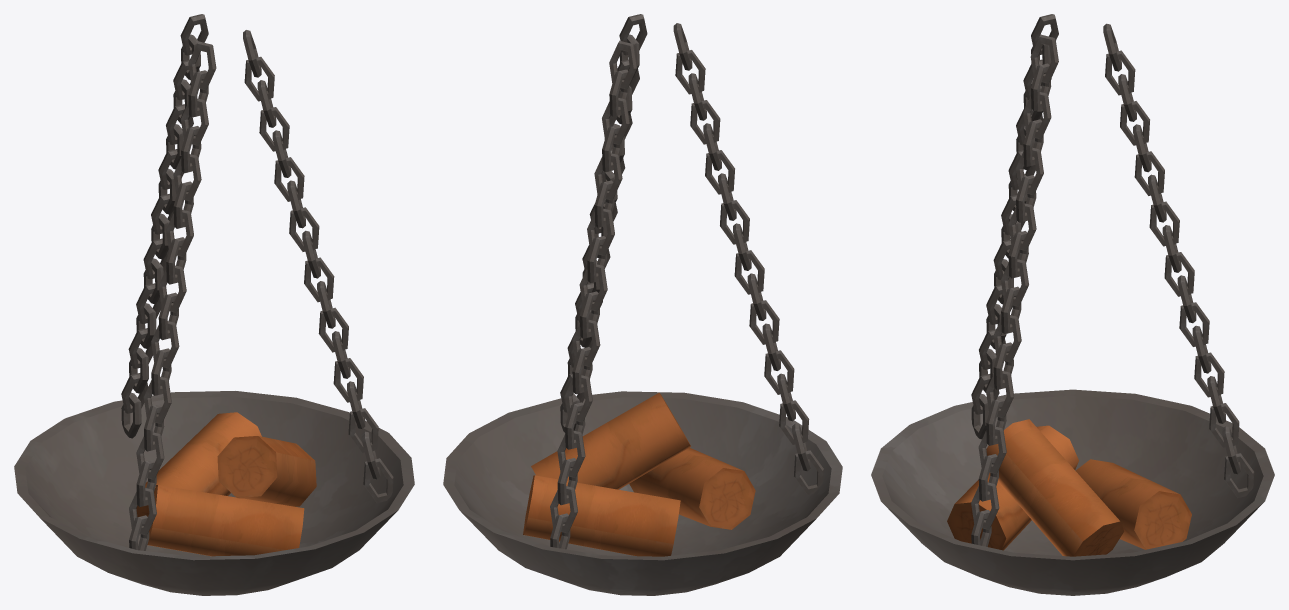
3 views of the same model, side by side, from view 1: azimuth 30°, elevation 25°; view 2: azimuth 150°, elevation 25°; view 3: azimuth 270°, elevation 25° (orthographic).
Parts seen in each view (by area): view 1: pCylinder57, pTorus44, pTorus45, polySurface552, pTorus42, polySurface553, polySurface554; view 2: pCylinder57, pTorus42, pTorus44, polySurface554, polySurface553, polySurface552, pTorus45; view 3: pCylinder57, pTorus45, polySurface553, pTorus42, polySurface554, pTorus44, polySurface552.
Boxes of the visible parts, x1,y1,x2,y2 form: pCylinder57: [14, 391, 414, 595]; pTorus44: [129, 41, 216, 550]; pTorus45: [243, 30, 393, 502]; polySurface552: [147, 485, 304, 556]; pTorus42: [121, 14, 208, 438]; polySurface553: [217, 436, 316, 506]; polySurface554: [136, 412, 261, 516]; pCylinder57: [443, 391, 842, 595]; pTorus42: [550, 40, 637, 549]; pTorus44: [673, 23, 823, 494]; polySurface554: [523, 475, 680, 556]; polySurface553: [531, 392, 690, 489]; polySurface552: [629, 447, 755, 529]; pTorus45: [560, 14, 647, 432]; pCylinder57: [871, 389, 1274, 595]; pTorus45: [971, 34, 1058, 546]; polySurface553: [986, 419, 1124, 556]; pTorus42: [1103, 23, 1254, 497]; polySurface554: [1075, 459, 1191, 549]; pTorus44: [971, 14, 1058, 439]; polySurface552: [947, 425, 1078, 550].
Size of the model in its own units: 0.8909 by 1.33 by 0.8909.
